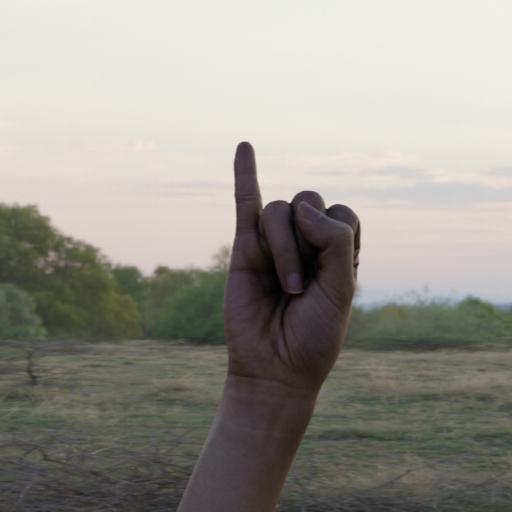I: (206, 130, 368, 460)
